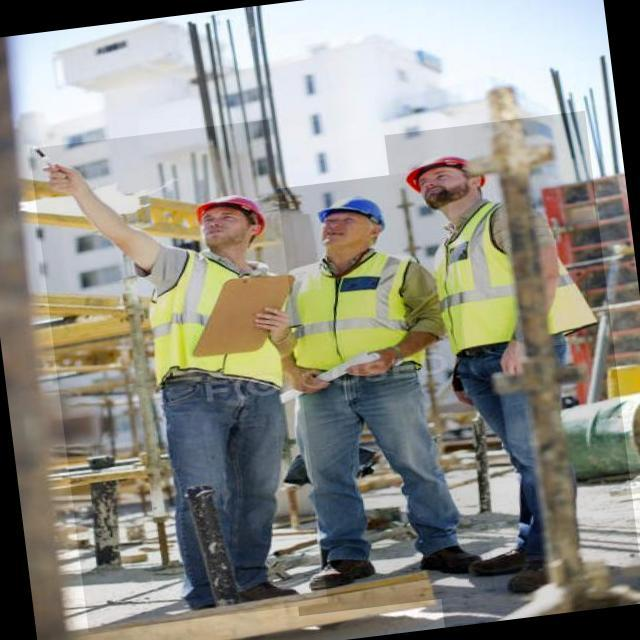Helmet: (401, 148, 487, 197), (193, 189, 267, 241), (315, 192, 387, 239)
Person: (34, 105, 301, 619), (382, 124, 616, 603), (285, 164, 480, 600)
Safety Boot: (306, 554, 378, 593), (467, 539, 533, 579), (417, 540, 484, 579), (504, 554, 551, 595), (238, 574, 301, 604)
Safety Vest: (426, 191, 601, 356), (140, 238, 285, 403), (277, 248, 427, 386)
bare-arms: (43, 150, 89, 214), (349, 344, 396, 402), (250, 304, 294, 359), (500, 330, 538, 385), (294, 360, 327, 410)
